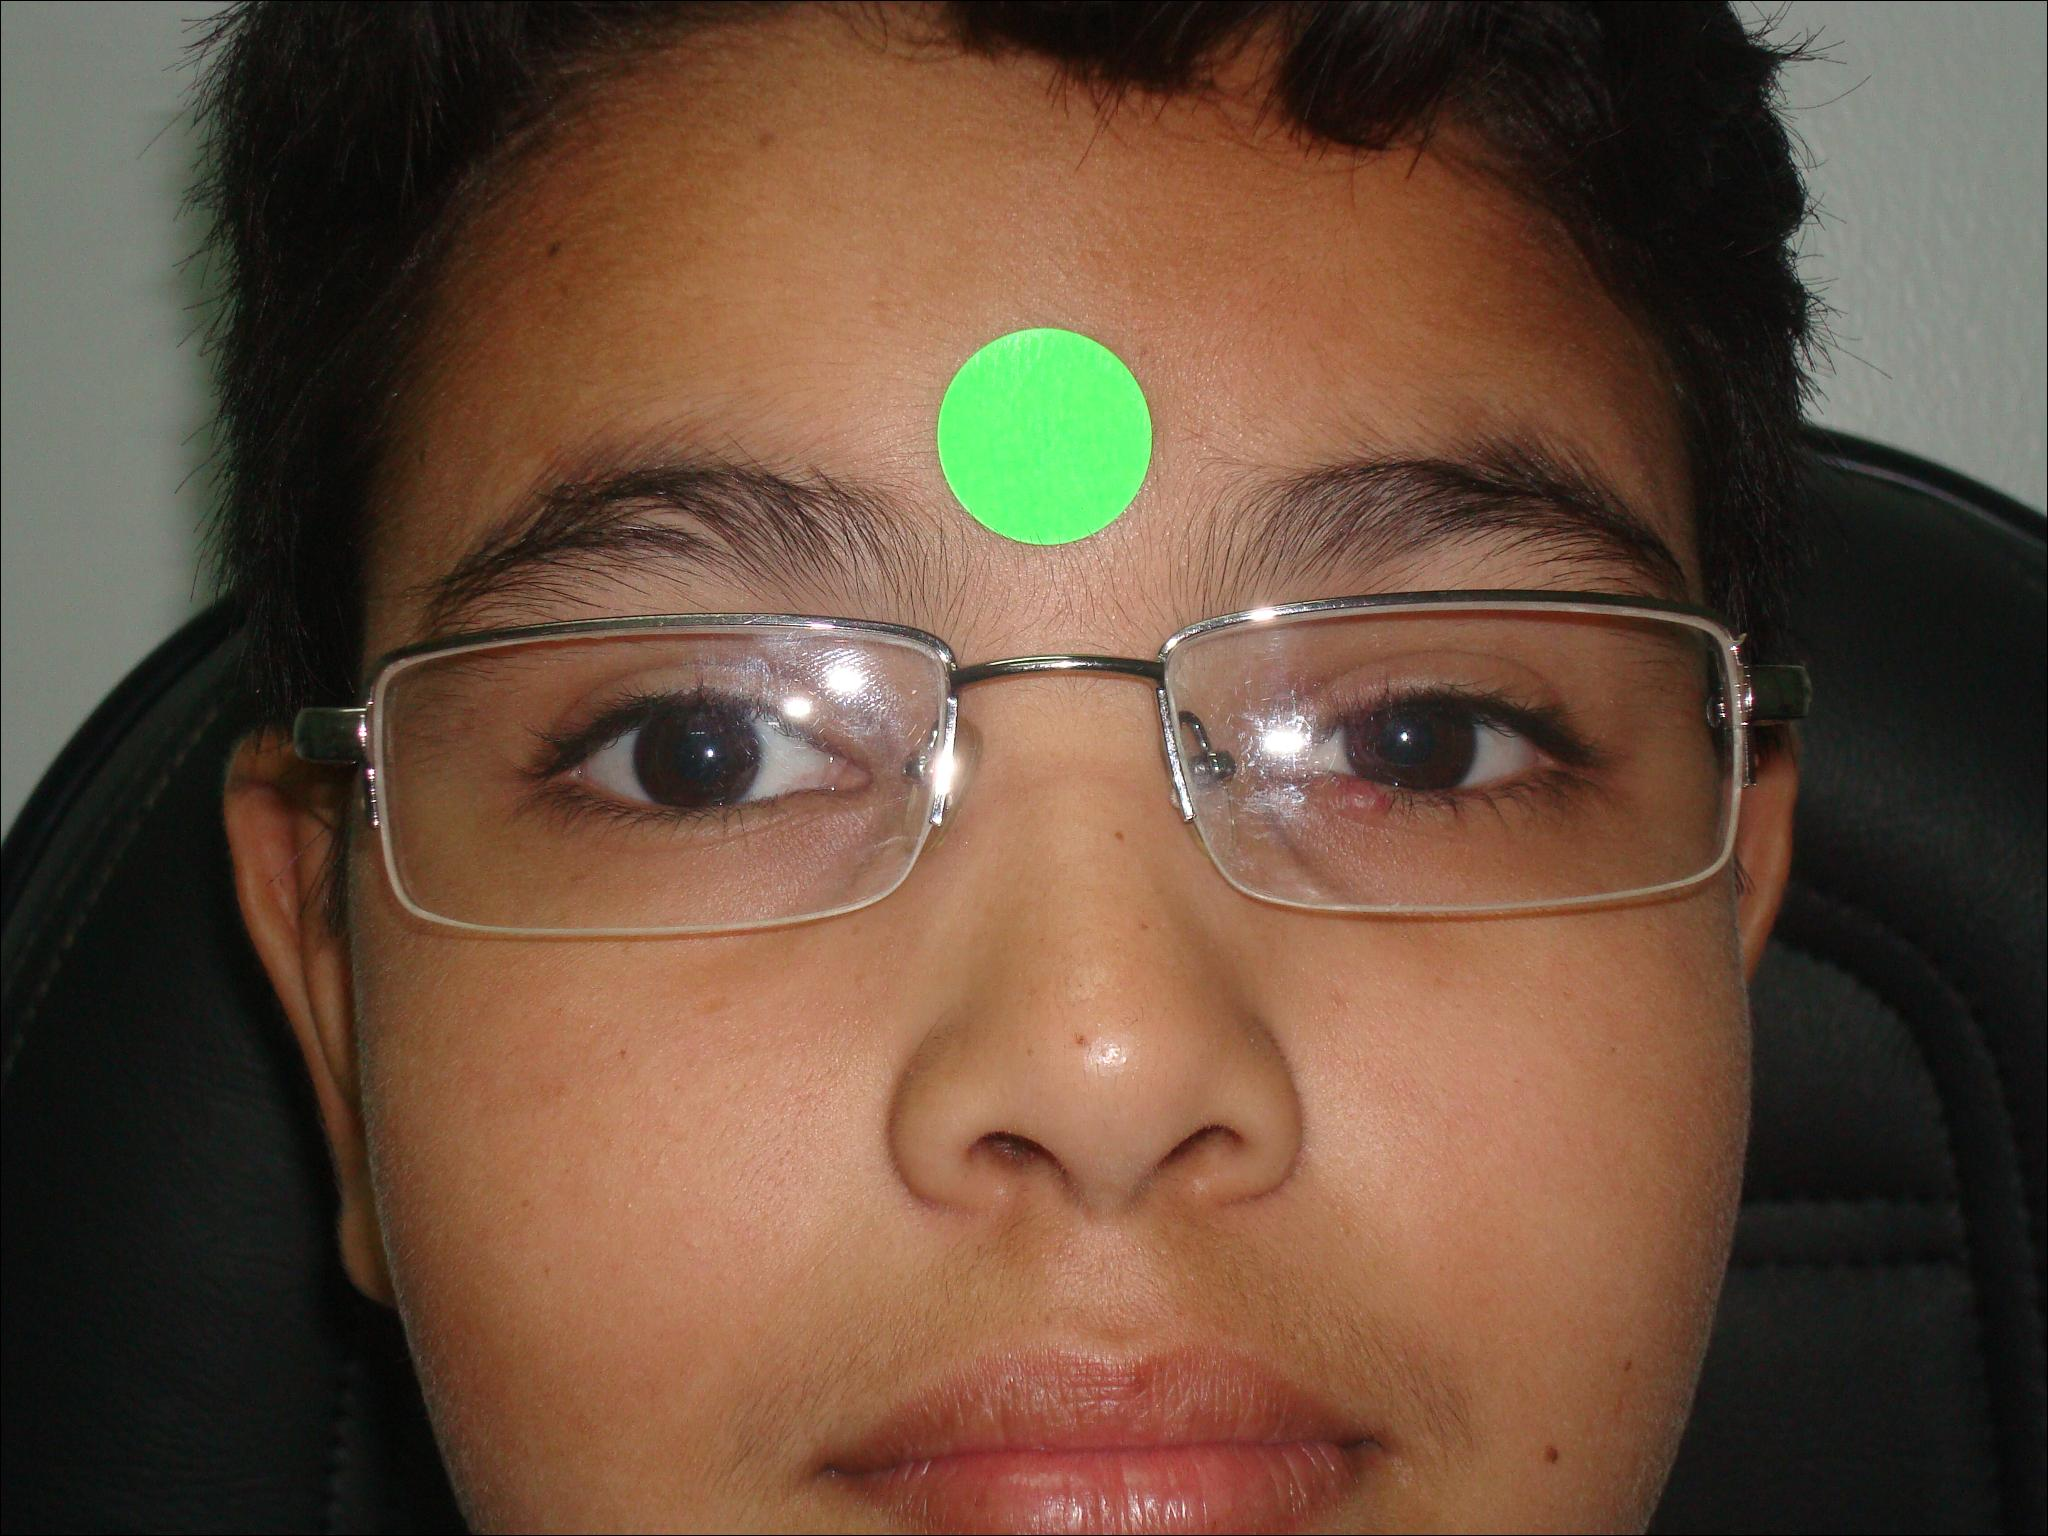flash: (1393, 724, 1416, 747), (700, 744, 721, 763)
limbo: (1335, 676, 1476, 802), (634, 694, 768, 812)
